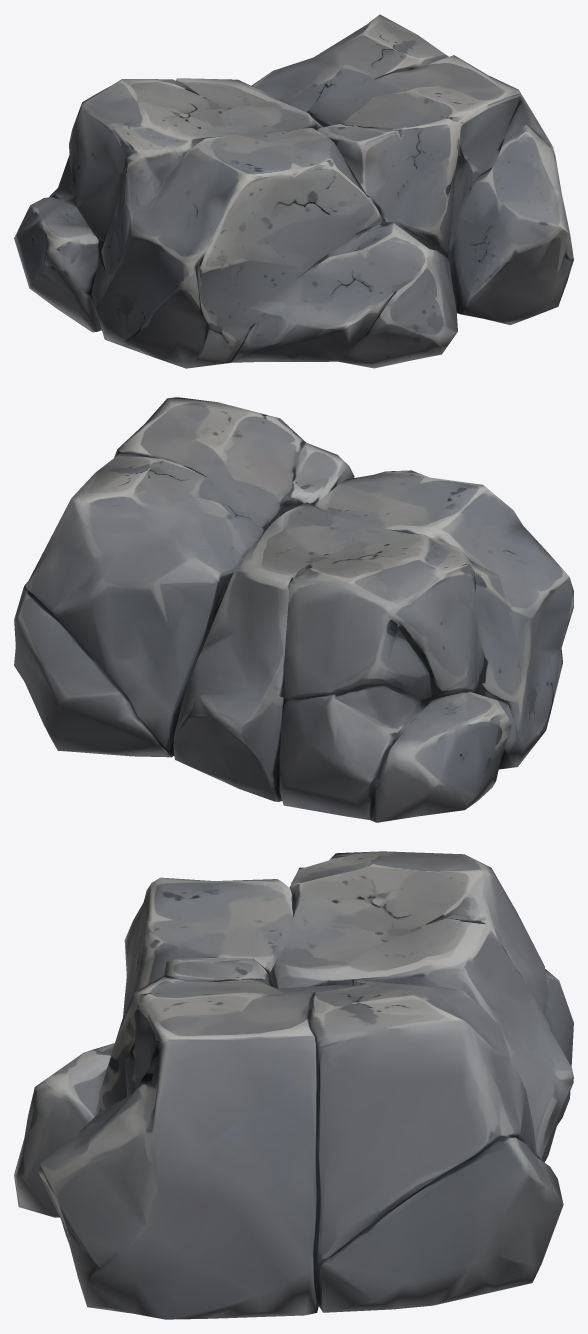
Rendered from stone.fbx.
3 renders of one model, top to bottom at view 1: azimuth 30°, elevation 25°; view 2: azimuth 150°, elevation 25°; view 3: azimuth 270°, elevation 25°, orthographic. The views are drawn at different scales.
Parts seen in each view (by area): view 1: tripo_node_12835f39; view 2: tripo_node_12835f39; view 3: tripo_node_12835f39.
Boxes of the visible parts, x1,y1,x2,y2 form: tripo_node_12835f39: (14,14,573,368); tripo_node_12835f39: (14,397,573,822); tripo_node_12835f39: (14,851,573,1319).
Bounding box in the file's own units: 100 × 84.88 × 46.89.
Materials: 1 (1 with a texture image).
